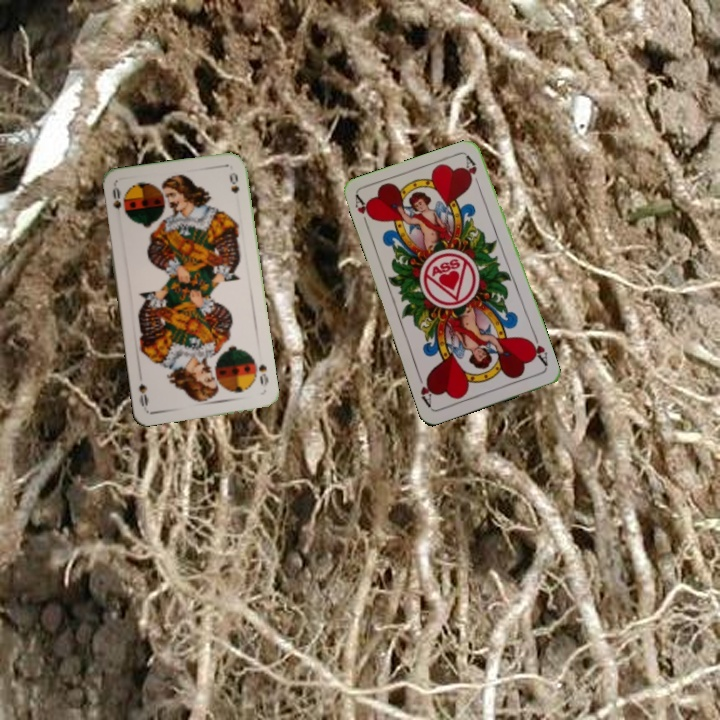HA: (351, 192, 377, 232), (524, 331, 550, 369)
SO: (250, 354, 271, 390), (109, 183, 124, 212)
